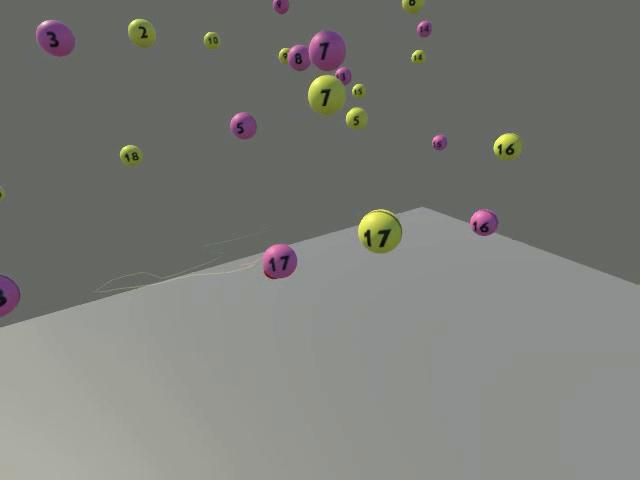ball_02_yellow: (127, 18, 155, 48)
ball_03_pink: (35, 19, 74, 56)
ball_05_pink: (230, 112, 256, 139)
ball_05_yellow: (345, 107, 368, 131)
ball_07_pink: (308, 29, 346, 70)
ball_07_yellow: (307, 74, 345, 114)
ball_08_pink: (287, 44, 310, 71)
ball_10_yellow: (203, 31, 220, 48)
ball_14_pink: (416, 20, 432, 36)
ball_14_yellow: (412, 49, 426, 63)
ball_15_pink: (431, 134, 447, 150)
ball_15_yellow: (351, 83, 366, 99)
ball_16_pink: (469, 209, 498, 235)
ball_16_yellow: (493, 132, 521, 159)
ball_17_pink: (262, 243, 297, 278)
ball_17_yellow: (357, 209, 402, 254)
ball_18_yellow: (119, 145, 143, 166)
ball_unknown: (0, 274, 20, 318), (334, 67, 351, 85), (401, 0, 423, 13), (272, 0, 289, 14), (278, 47, 289, 63), (0, 186, 5, 201)
user_cursor: (261, 272, 272, 279)
